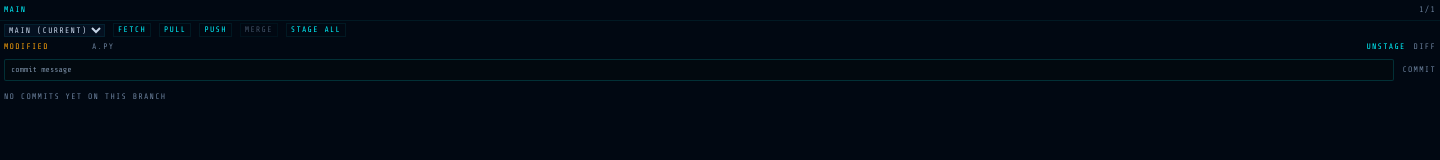
Scenario: GitPanel › shows a refused commit with git's own message
Type "wip" into the field labelled "commit message" at (699,70), box left=4, top=59, right=1394, bottom=81
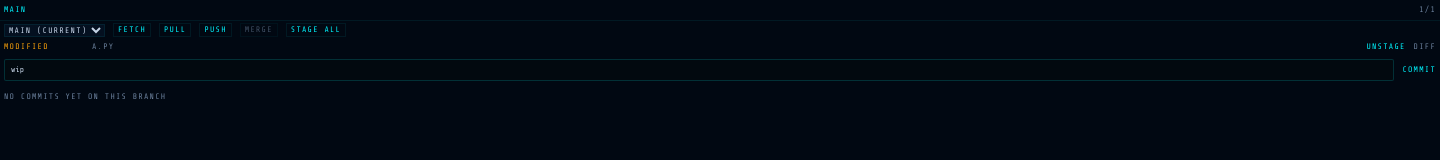
Click the button "Commit" at (1419,70), box left=1402, top=64, right=1436, bottom=76
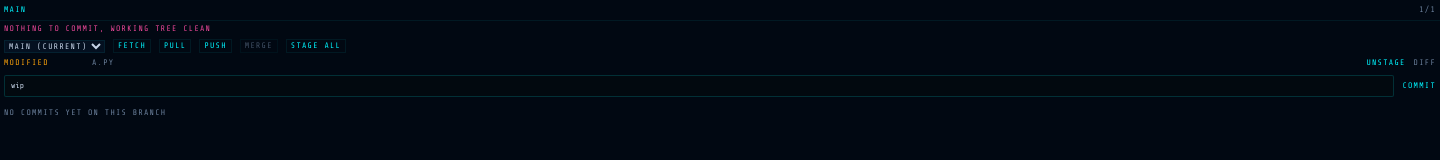
expect the text "nothing to commit, working tree clean" is shown: met, box left=4, top=24, right=211, bottom=33
